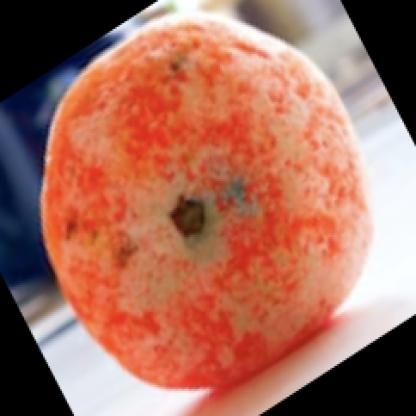rotten: (44, 16, 375, 390)
